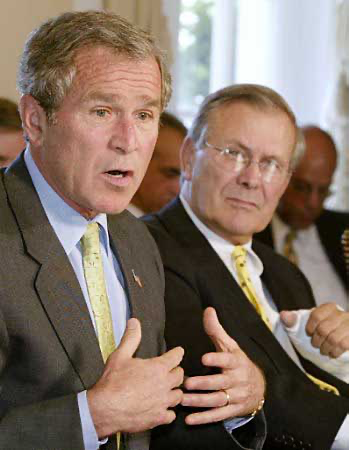Face: (53, 57, 166, 221), (192, 126, 291, 240), (289, 144, 337, 240), (144, 129, 188, 220)
